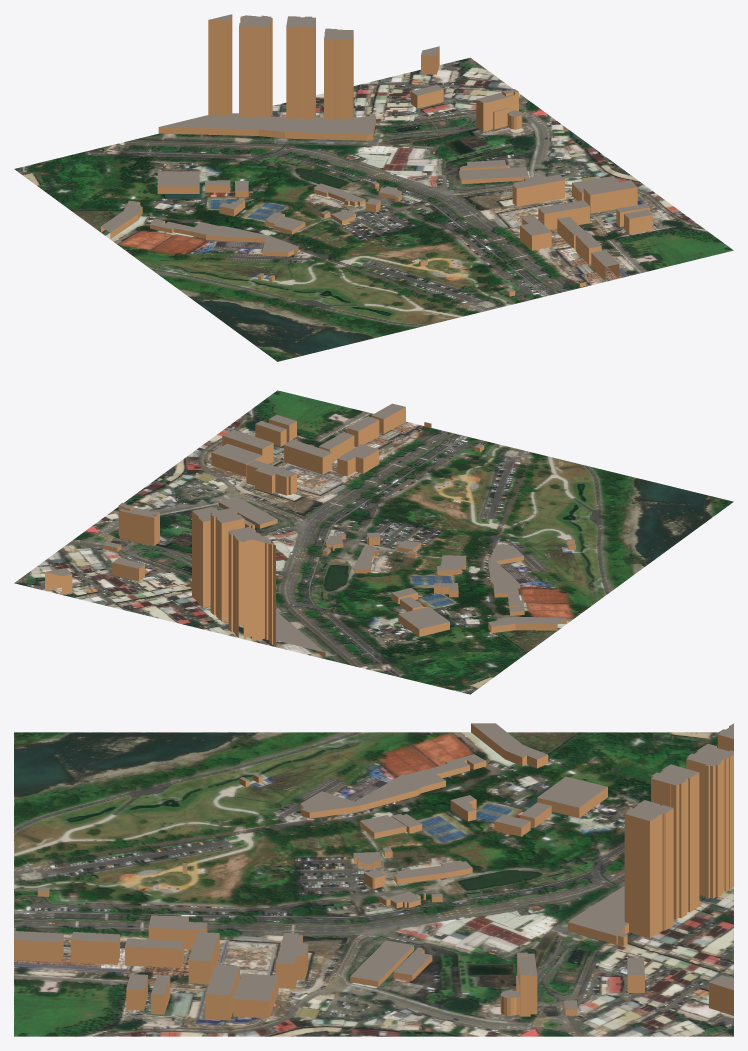
The model's file is NYCU.glb.
3 views of the same model, one above another, from view 1: azimuth 30°, elevation 25°; view 2: azimuth 150°, elevation 25°; view 3: azimuth 270°, elevation 25° (orthographic). The views are drawn at different scales.
Parts seen in each view (by area): view 1: OSM_BaseMap, Sionna_Building_0027, Sionna_Building_0028, Sionna_Building_0030, Sionna_Building_0029, Sionna_Building_0005, Sionna_Building_0042, Sionna_Building_0002, Sionna_Building_0017, Sionna_Building_0015, Sionna_Building_0021, Sionna_Building_0003 (+7 smaller); view 2: OSM_BaseMap, Sionna_Building_0028, Sionna_Building_0005, Sionna_Building_0030, Sionna_Building_0029, Sionna_Building_0017, Sionna_Building_0042, Sionna_Building_0007, Sionna_Building_0015, Sionna_Building_0021, Sionna_Building_0016, Sionna_Building_0035 (+9 smaller); view 3: OSM_BaseMap, Sionna_Building_0029, Sionna_Building_0028, Sionna_Building_0030, Sionna_Building_0042, Sionna_Building_0027, Sionna_Building_0021, Sionna_Building_0016, Sionna_Building_0035, Sionna_Building_0014, Sionna_Building_0002, Sionna_Building_0013 (+18 smaller).
Boxes of the visible parts, left/top/right/bottom form: OSM_BaseMap: left=14, top=57, right=733, bottom=361; Sionna_Building_0027: left=158, top=113, right=375, bottom=140; Sionna_Building_0028: left=239, top=15, right=272, bottom=117; Sionna_Building_0030: left=286, top=16, right=315, bottom=119; Sionna_Building_0029: left=324, top=28, right=353, bottom=119; Sionna_Building_0005: left=208, top=14, right=232, bottom=115; Sionna_Building_0042: left=189, top=222, right=298, bottom=256; Sionna_Building_0002: left=583, top=180, right=637, bottom=213; Sionna_Building_0017: left=512, top=174, right=564, bottom=206; Sionna_Building_0015: left=538, top=200, right=589, bottom=229; Sionna_Building_0021: left=157, top=171, right=199, bottom=193; Sionna_Building_0003: left=520, top=216, right=551, bottom=250; OSM_BaseMap: left=14, top=390, right=733, bottom=694; Sionna_Building_0028: left=228, top=526, right=262, bottom=638; Sionna_Building_0005: left=252, top=537, right=275, bottom=646; Sionna_Building_0030: left=210, top=508, right=244, bottom=621; Sionna_Building_0029: left=192, top=507, right=217, bottom=607; Sionna_Building_0017: left=246, top=460, right=296, bottom=495; Sionna_Building_0042: left=488, top=544, right=523, bottom=597; Sionna_Building_0007: left=119, top=507, right=156, bottom=545; Sionna_Building_0015: left=284, top=439, right=332, bottom=474; Sionna_Building_0021: left=398, top=606, right=449, bottom=636; Sionna_Building_0016: left=211, top=443, right=262, bottom=476; Sionna_Building_0035: left=488, top=617, right=566, bottom=633; OSM_BaseMap: left=14, top=732, right=733, bottom=1036; Sionna_Building_0029: left=624, top=800, right=673, bottom=938; Sionna_Building_0028: left=686, top=744, right=733, bottom=898; Sionna_Building_0030: left=651, top=764, right=699, bottom=919; Sionna_Building_0042: left=300, top=769, right=445, bottom=818; Sionna_Building_0027: left=568, top=886, right=628, bottom=946; Sionna_Building_0021: left=537, top=776, right=607, bottom=818; Sionna_Building_0016: left=233, top=973, right=278, bottom=1018; Sionna_Building_0035: left=471, top=723, right=548, bottom=768; Sionna_Building_0014: left=125, top=938, right=183, bottom=968; Sionna_Building_0002: left=205, top=965, right=239, bottom=1020; Sionna_Building_0013: left=70, top=932, right=119, bottom=964.
Size of the model in its own units: 512 by 109 by 512.
3 materials, 1 textured.
